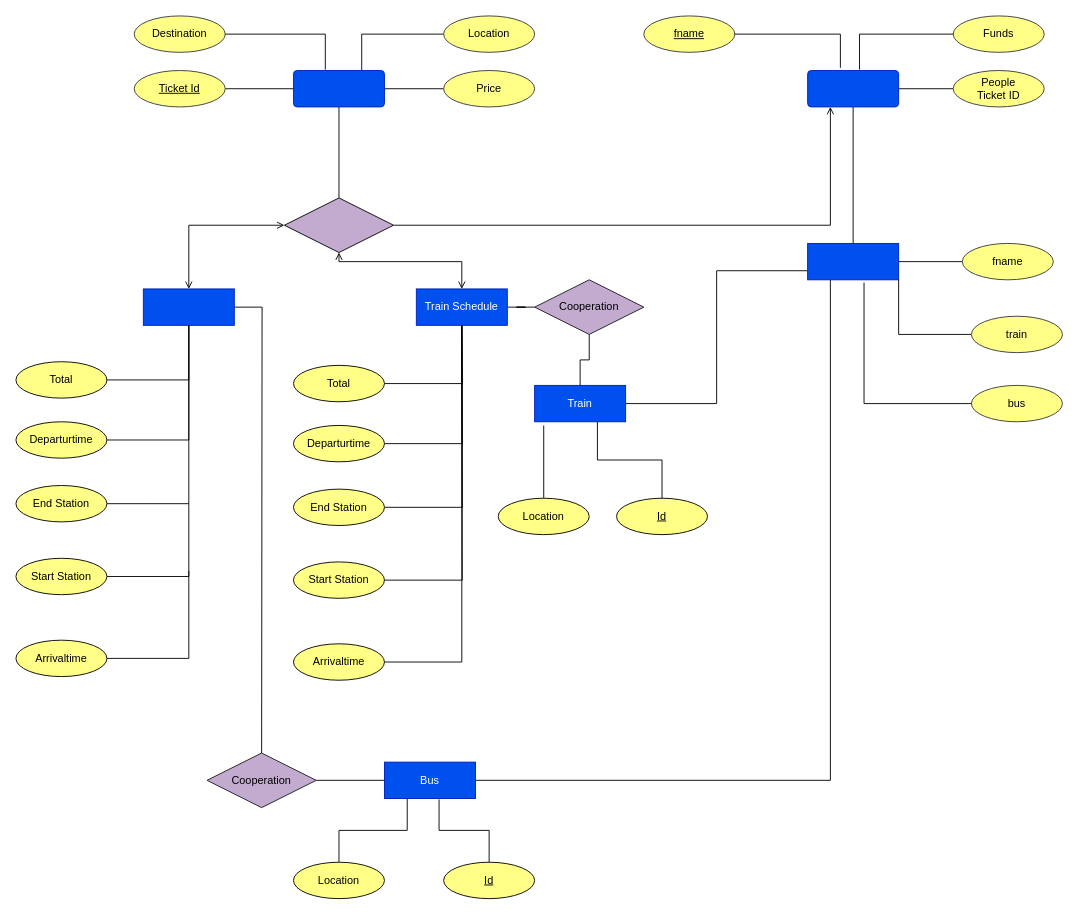
Some shapes in this 1078 by 915 pixel diagram are drawn without their labels. Each missing label, with the box of its shape:
Bus Schedule: (142, 288, 234, 325)
Buy: (283, 197, 394, 253)
People: (807, 70, 899, 107)
Pref erence: (807, 243, 899, 280)
Ticket: (293, 70, 384, 107)
